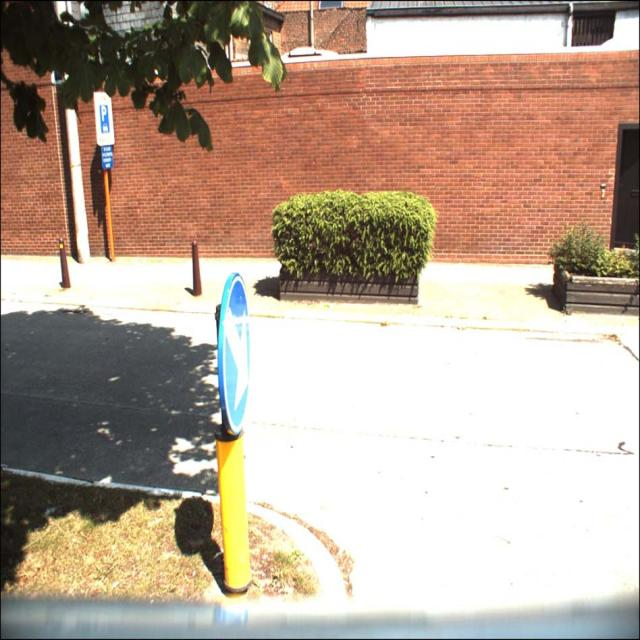park: (100, 105, 111, 134)
